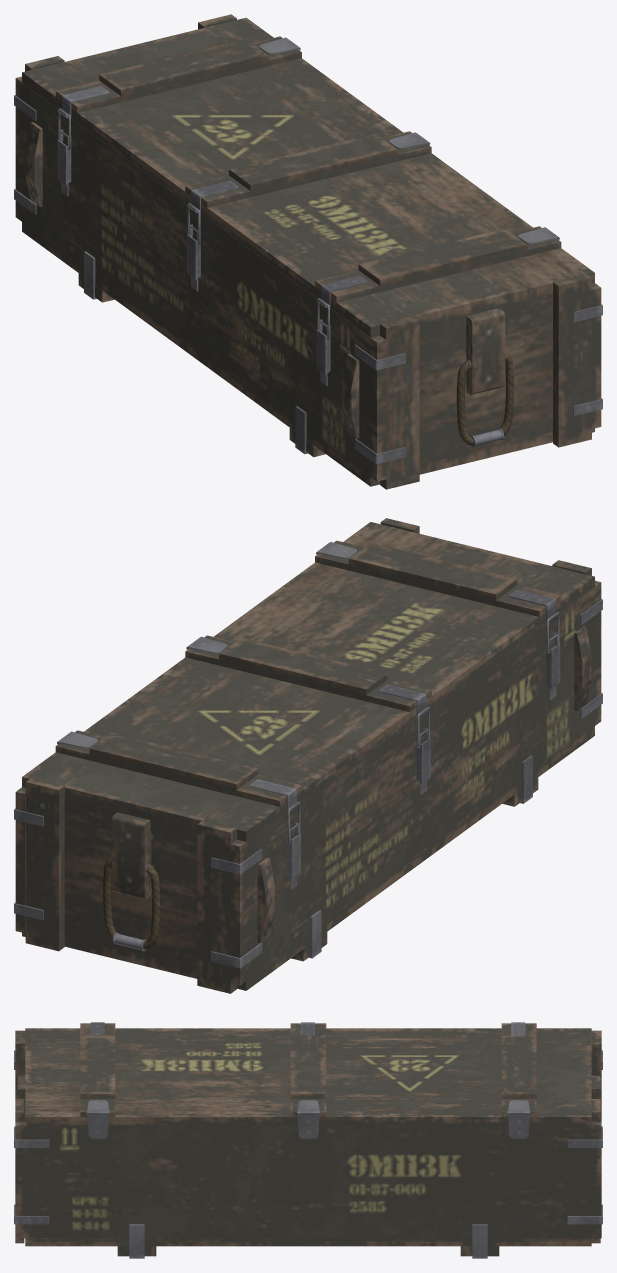
The model's file is SM_Crate_1.fbx.
3 views of the same model, one above another, from view 1: azimuth 30°, elevation 25°; view 2: azimuth 150°, elevation 25°; view 3: azimuth 270°, elevation 25° (orthographic). The views are drawn at different scales.
Visible parts, largest first — view 1: SM_Crate_1_LOD0; view 2: SM_Crate_1_LOD0; view 3: SM_Crate_1_LOD0.
Boxes of the visible parts, box(x1,y1,x2,y2) form: SM_Crate_1_LOD0: box(14, 14, 602, 489); SM_Crate_1_LOD0: box(14, 518, 602, 993); SM_Crate_1_LOD0: box(14, 1022, 602, 1258).
Bounding box in the file's own units: 75.41 × 202 × 56.8.
1 material, 1 textured.
